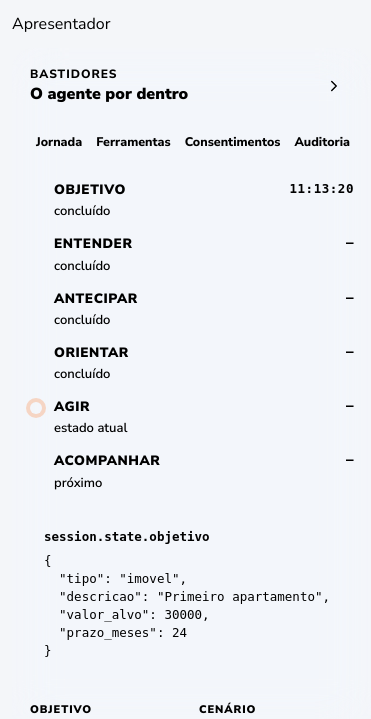
Test: Bastidores › aba Ferramentas mostra nomes técnicos, parâmetros mascarados, fonte e o código de erro
Click the button "Ferramentas": [134, 142] box [90, 124, 177, 160]
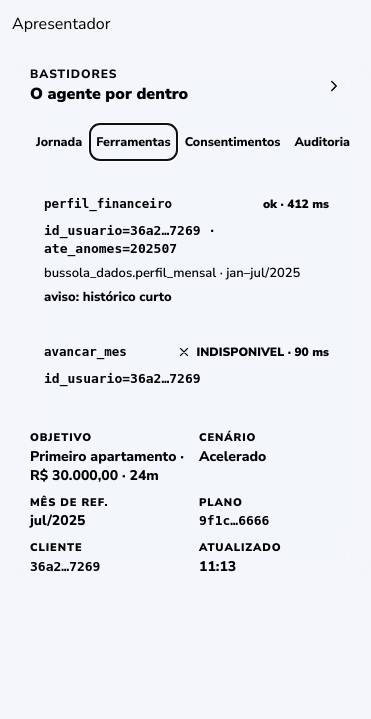
Result: the text "perfil_financeiro" is shown at [44, 195, 172, 213]
Result: the text "avancar_mes" is shown at [44, 343, 127, 361]
Result: the text "id_usuario=36a2…7269 · ate_anomes=202507" is shown at [44, 223, 216, 256]
